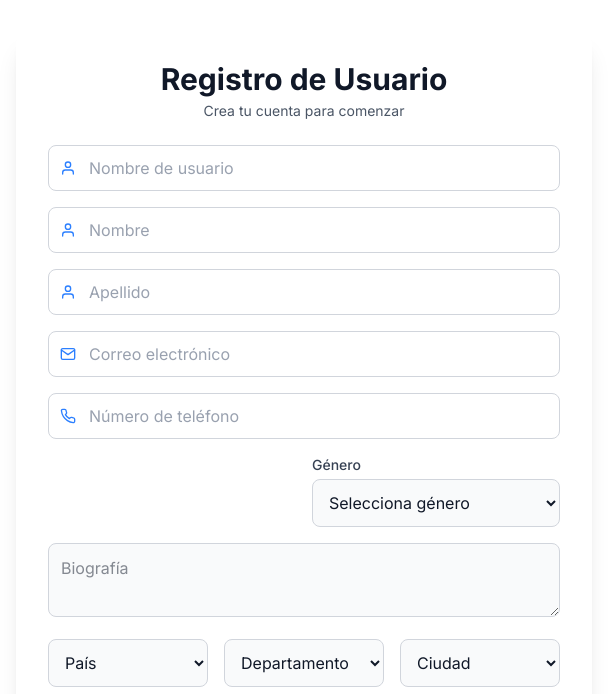
RegisterForm › debe mostrar error si el teléfono es inválido
The image size is (609, 694).
Expected: the heading "Registro de Usuario" is shown, [161,61,447,97]
Type "abc123" into the field with placeholder "Número de teléfono" at coordinates (304, 416), box [48,393,560,439]
(page scrolled)
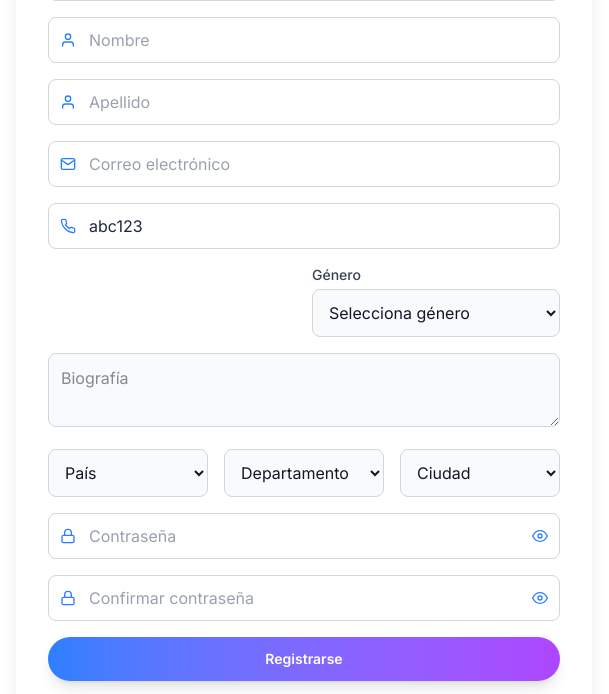
Click the button "Registrarse" at coordinates (304, 659), box [48,637,560,681]
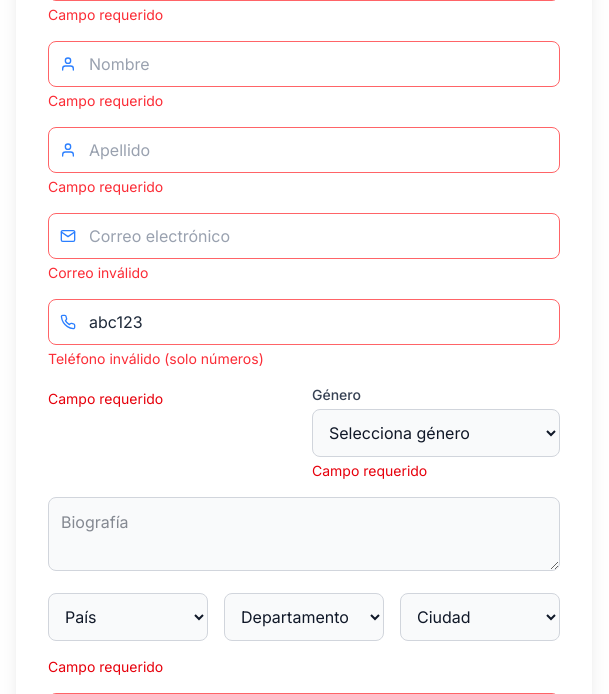
Result: the text "Teléfono inválido (solo números)" is shown at [48,350,264,367]
